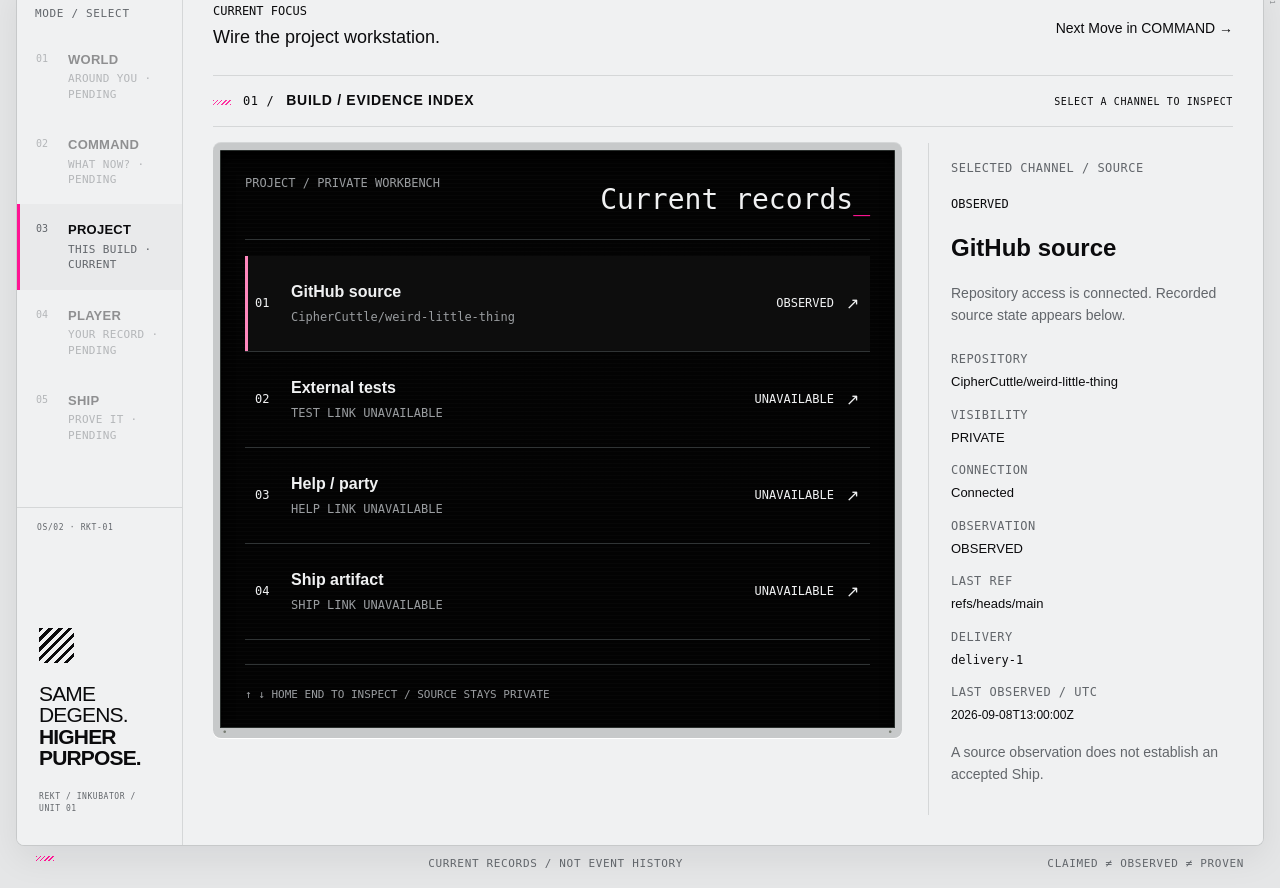
Test: Live Project › keeps each failed optional projection unavailable while preserving the source
(page scrolled)
Expected: the text "HELP LINK UNAVAILABLE" is shown, [291, 502, 443, 516]
Expected: the text "TEST LINK UNAVAILABLE" is shown, [291, 406, 443, 420]
Click the button "04 Ship artifact SHIP LINK UNAVAILABLE UNAVAILABLE ↗" at (337, 579), box [245, 544, 870, 640]
(page scrolled)
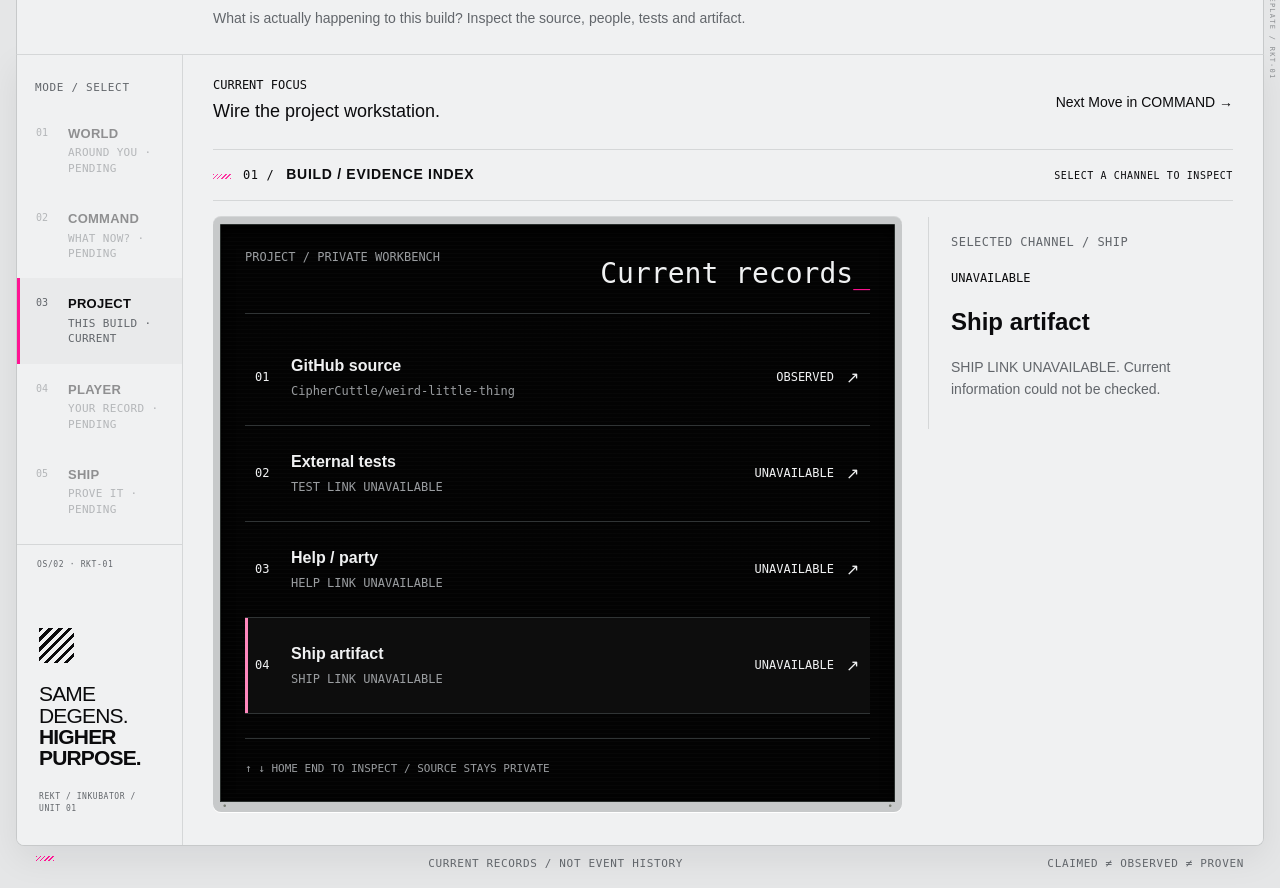
Now the element named "Selected project record" shows "SHIP LINK UNAVAILABLE", box [928, 217, 1233, 429]
